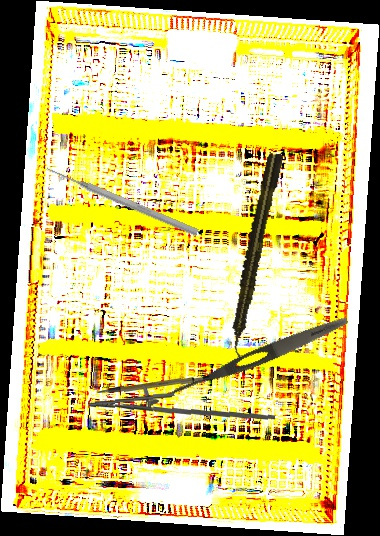Dressing Forceps: (161, 311, 351, 406)
Handpiece: (223, 151, 286, 358)
Needle Holder: (88, 378, 275, 430)
Pusher: (44, 163, 200, 238)
Scalpel Handle: (94, 371, 211, 397)
